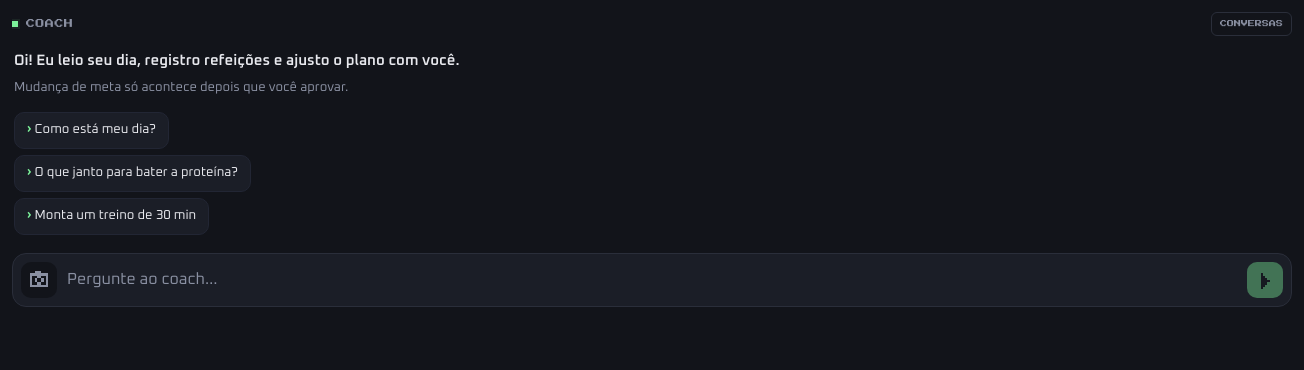
it: Coach › 409 de aprovação pendente pede para responder o card
Type "oi" into the text box named "mensagem para o coach". click: (652, 280)
box: [63,262,1241,298]
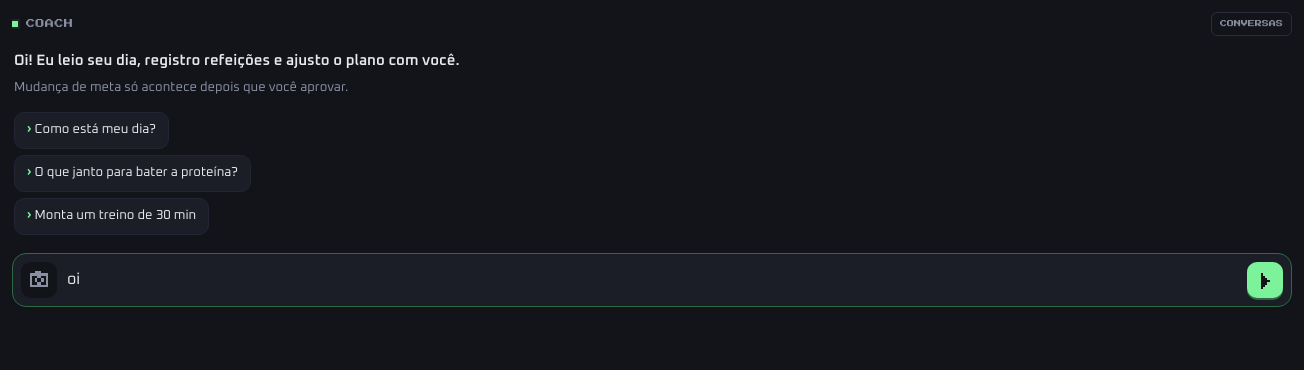
Click the button named "enviar". click: click(1265, 280)
box: [1247,262,1283,298]
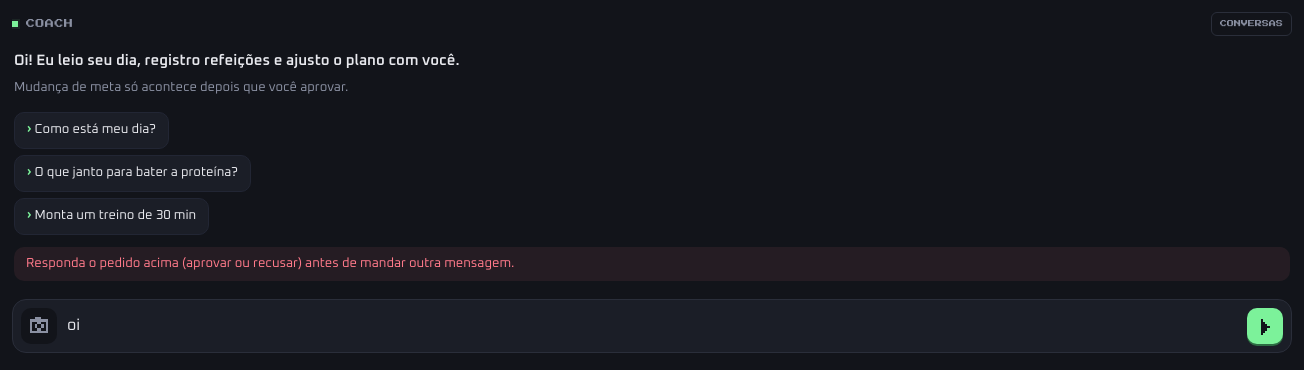
Expected: the message shows "Responda o pedido", [26,256,514,270]
